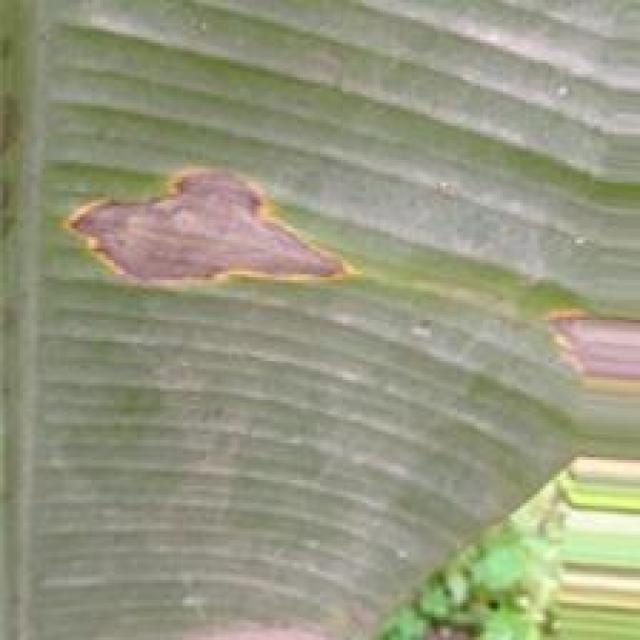Bacterial_spot: (48, 140, 366, 320), (513, 285, 640, 400)
